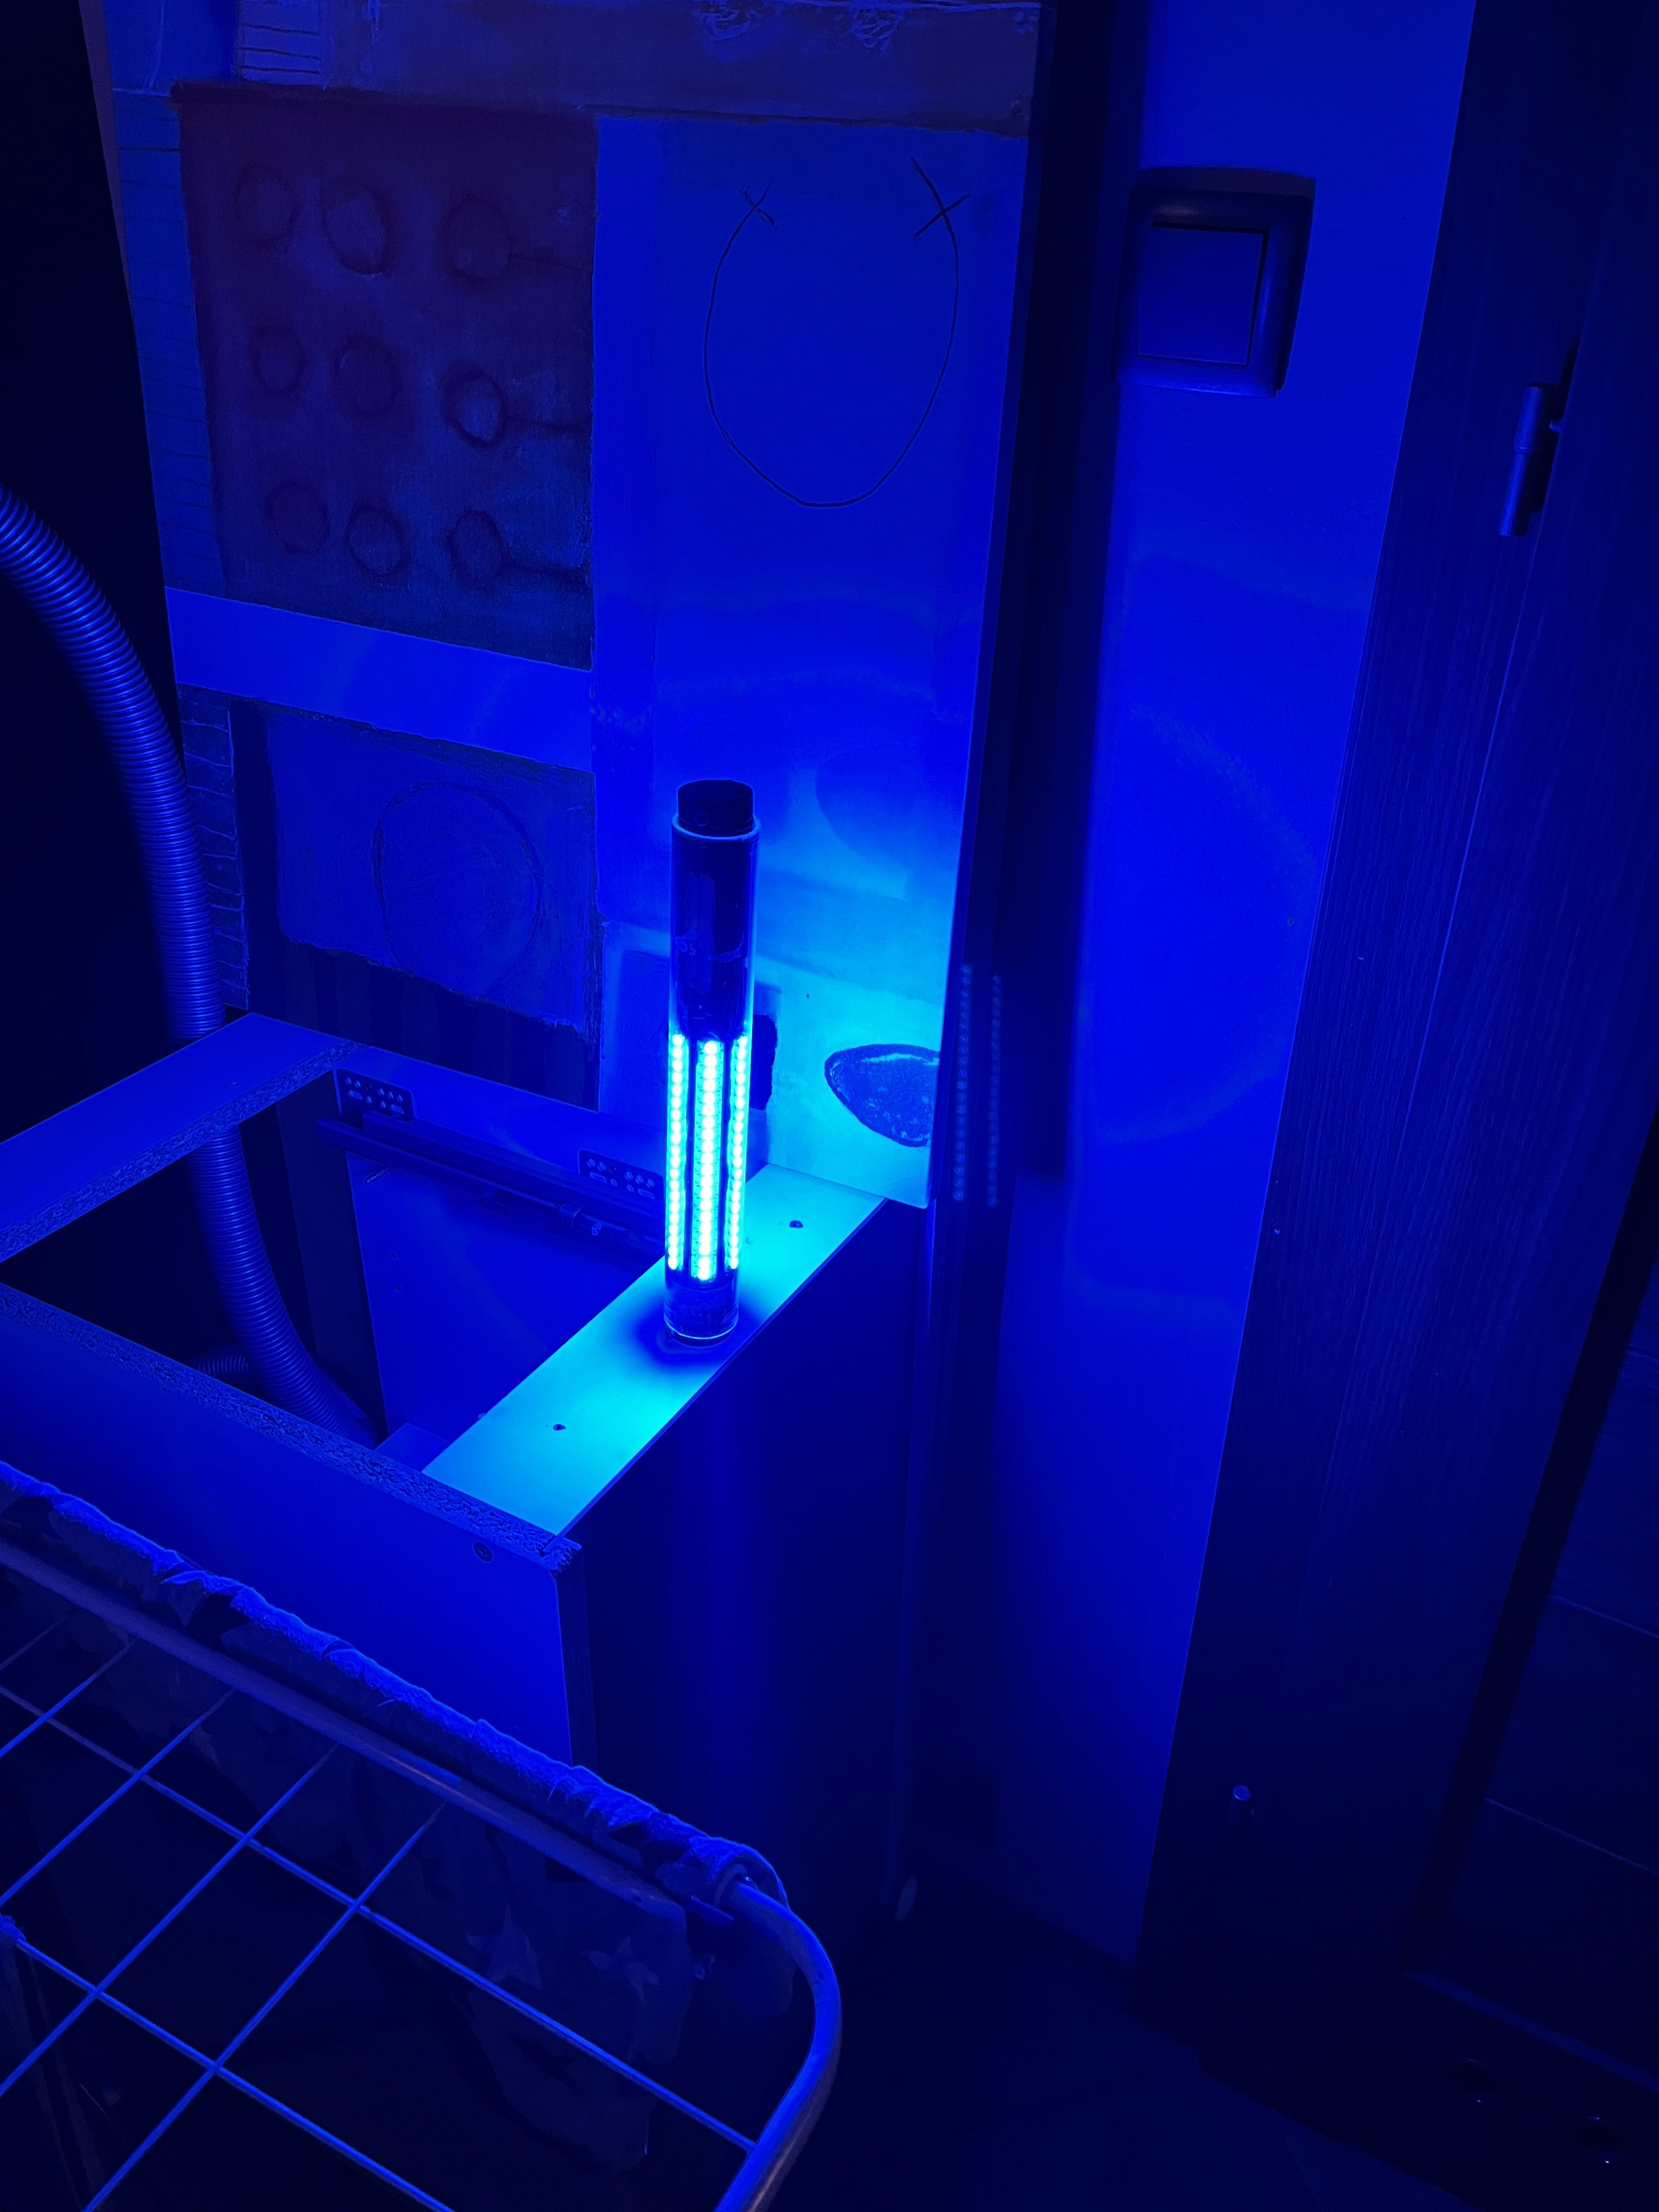blue: (669, 826, 753, 1336)
